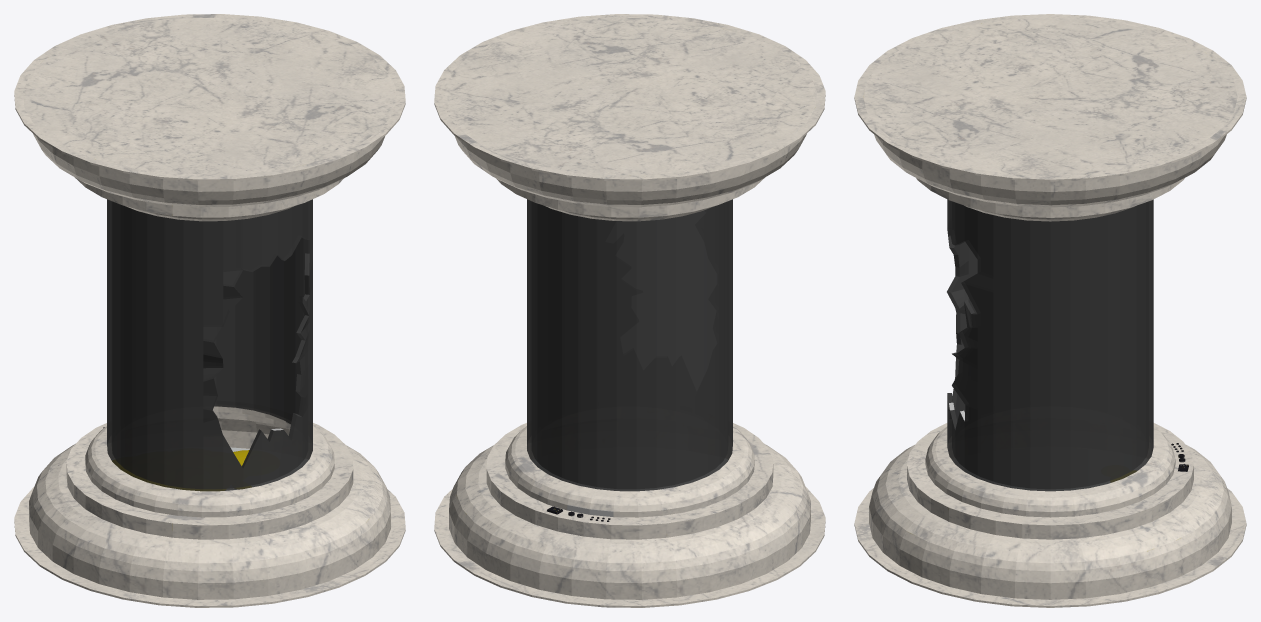
File: capsula.fbx
The picture shows the model from 3 angles, left to right: view 1: azimuth 30°, elevation 25°; view 2: azimuth 150°, elevation 25°; view 3: azimuth 270°, elevation 25°; orthographic projection.
Visible parts, largest first — view 1: Cylinder; view 2: Cylinder; view 3: Cylinder.
Boxes of the visible parts, x1,y1,x2,y2 form: Cylinder: [14, 14, 405, 607]; Cylinder: [434, 14, 825, 607]; Cylinder: [854, 14, 1246, 607].
Size of the model in its own units: 2.57 by 3.11 by 2.57.
2 materials, 1 textured.
